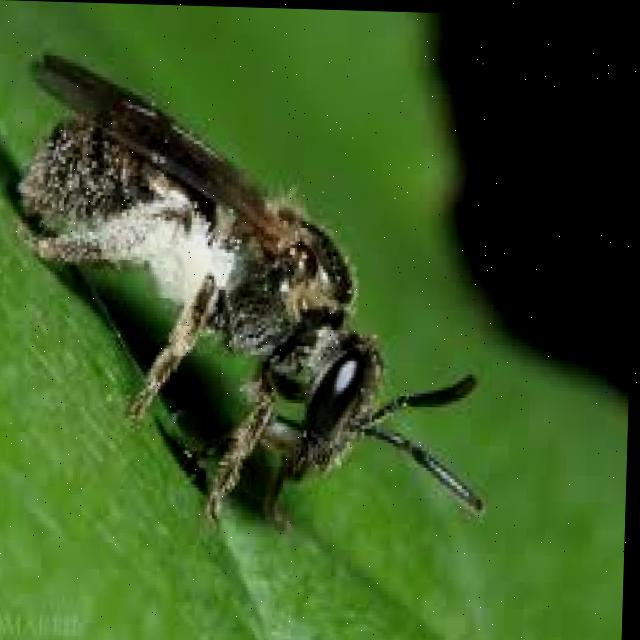Lasioglossum: (11, 43, 504, 540)
